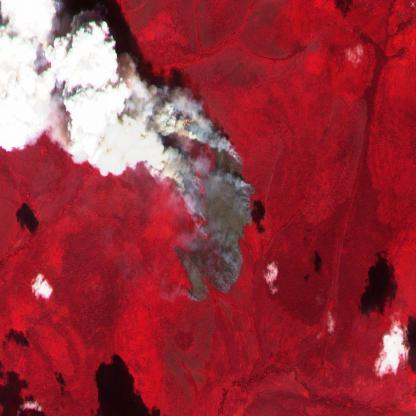fire: (143, 88, 258, 305)
